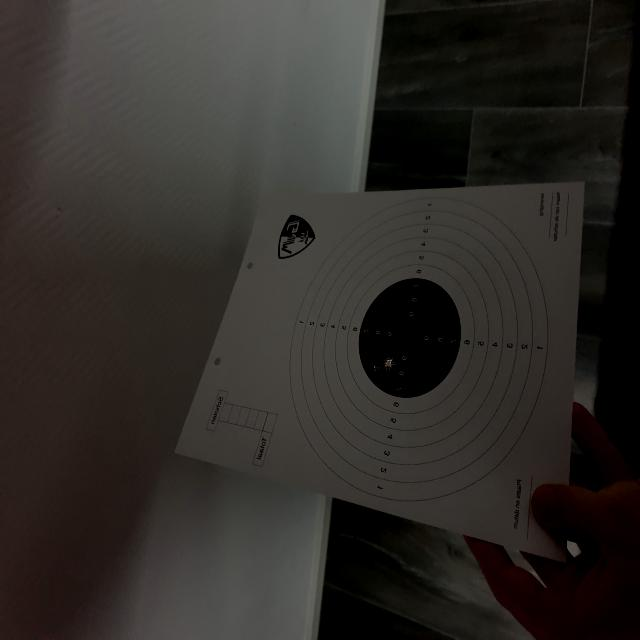8: (371, 358, 381, 373)
9: (383, 355, 396, 370)
Target: (277, 220, 537, 526)
black_contour: (359, 278, 461, 398)
